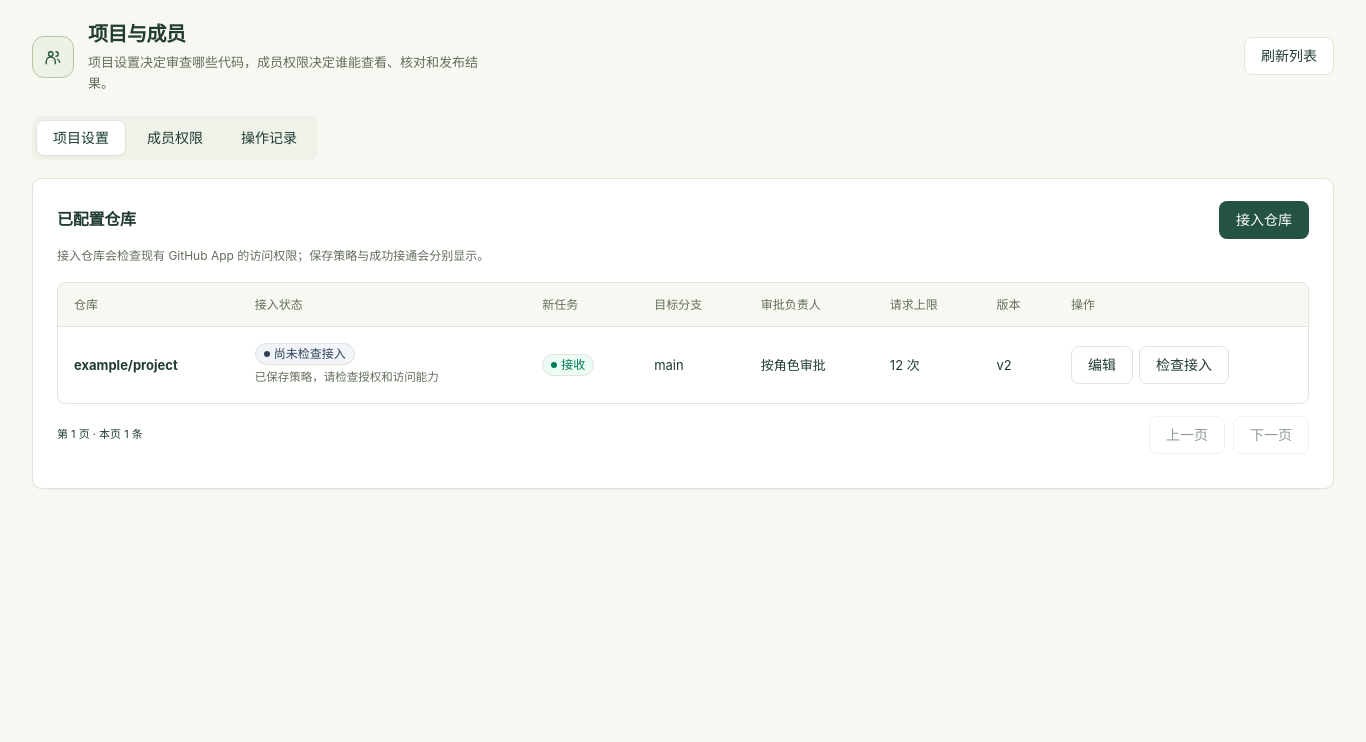
Test: 版本冲突时保留编辑内容并展示失败原因
This screenshot has width=1366, height=742.
Click the button with aria-label "编辑仓库 example/project": (1102, 365) [1071,346,1133,384]
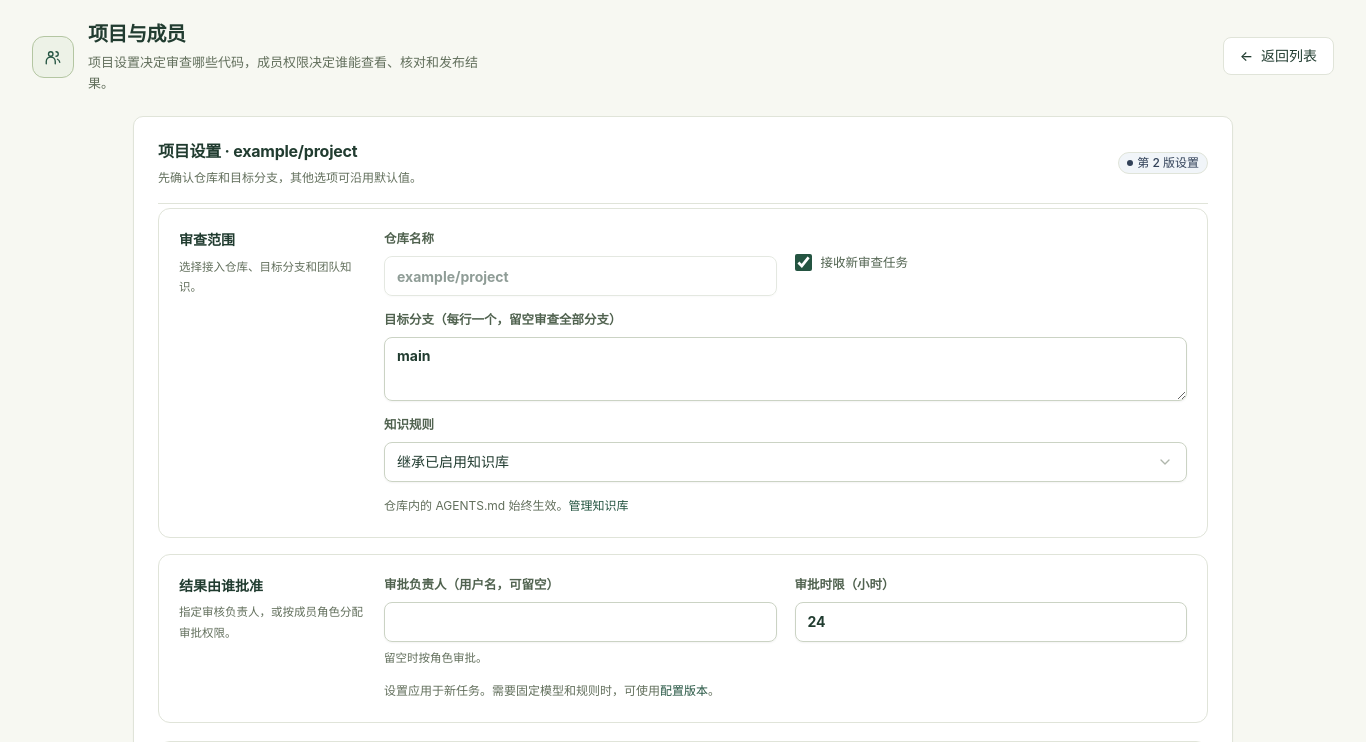
Replace the text in the text box labelled "目标分支（每行一个，留空审查全部分支）" with "release/*": (786, 369) [384,337,1187,401]
(page scrolled)
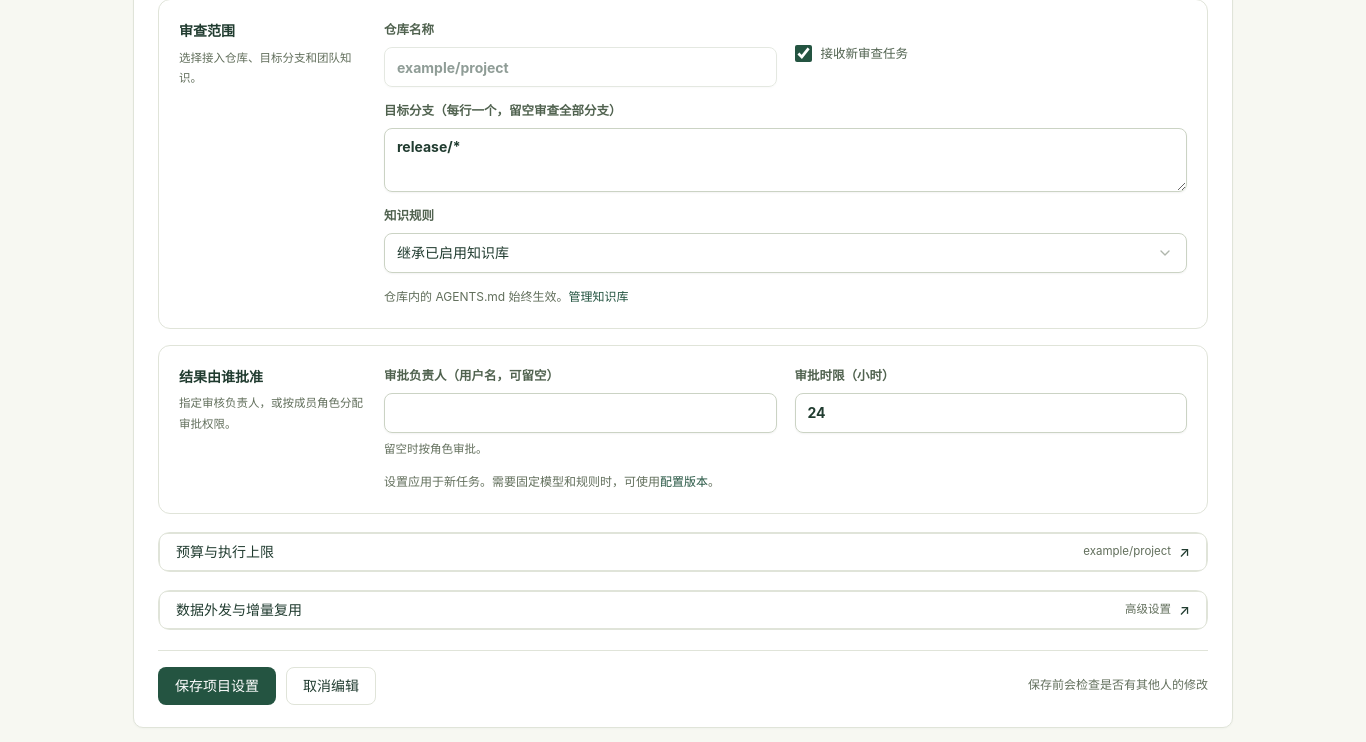
Click the button "保存项目设置": (217, 686) [158,666,276,704]
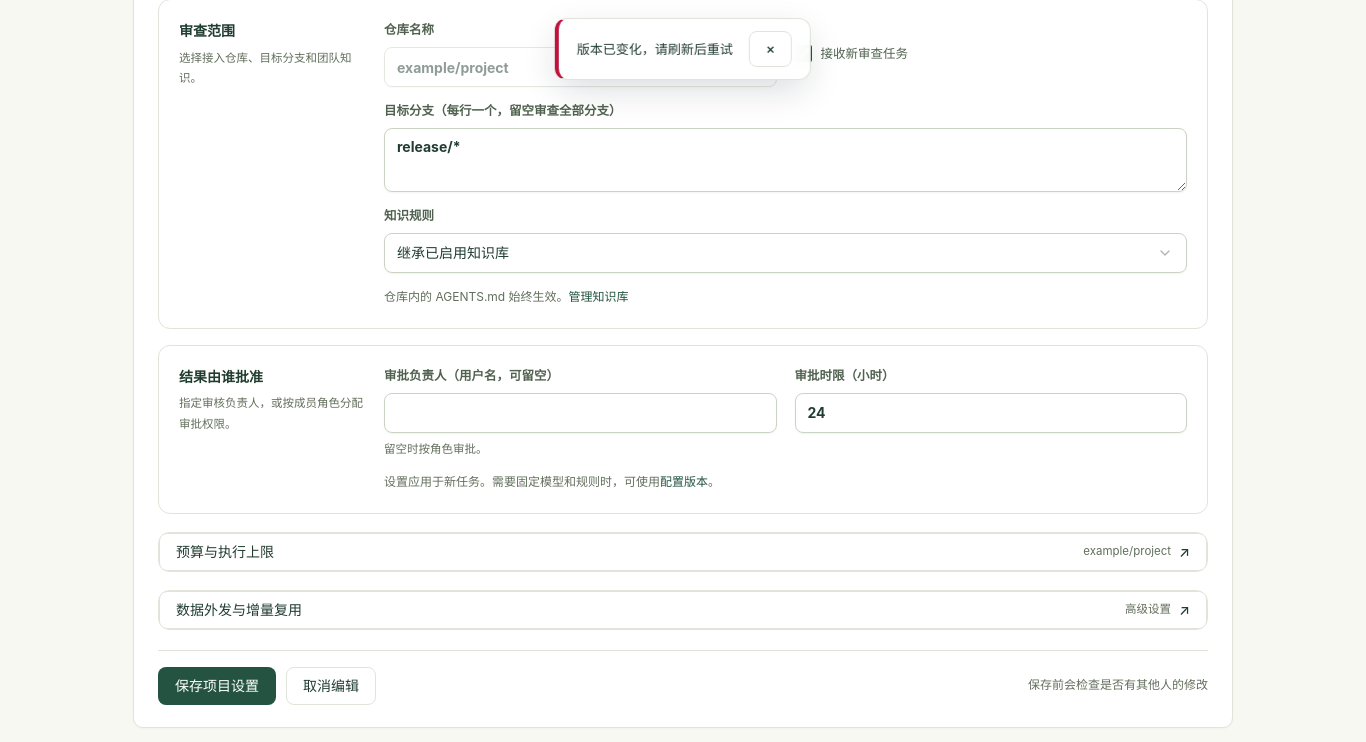
Now the message shows "版本已变化", box [577,41,733,57]
